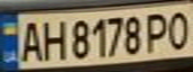1: (90, 16, 109, 58)
7: (106, 14, 127, 57)
8: (121, 11, 145, 55), (66, 16, 90, 60)
A: (15, 17, 45, 63)
H: (39, 16, 69, 61)
O: (163, 7, 193, 51)
P: (142, 9, 172, 53)
